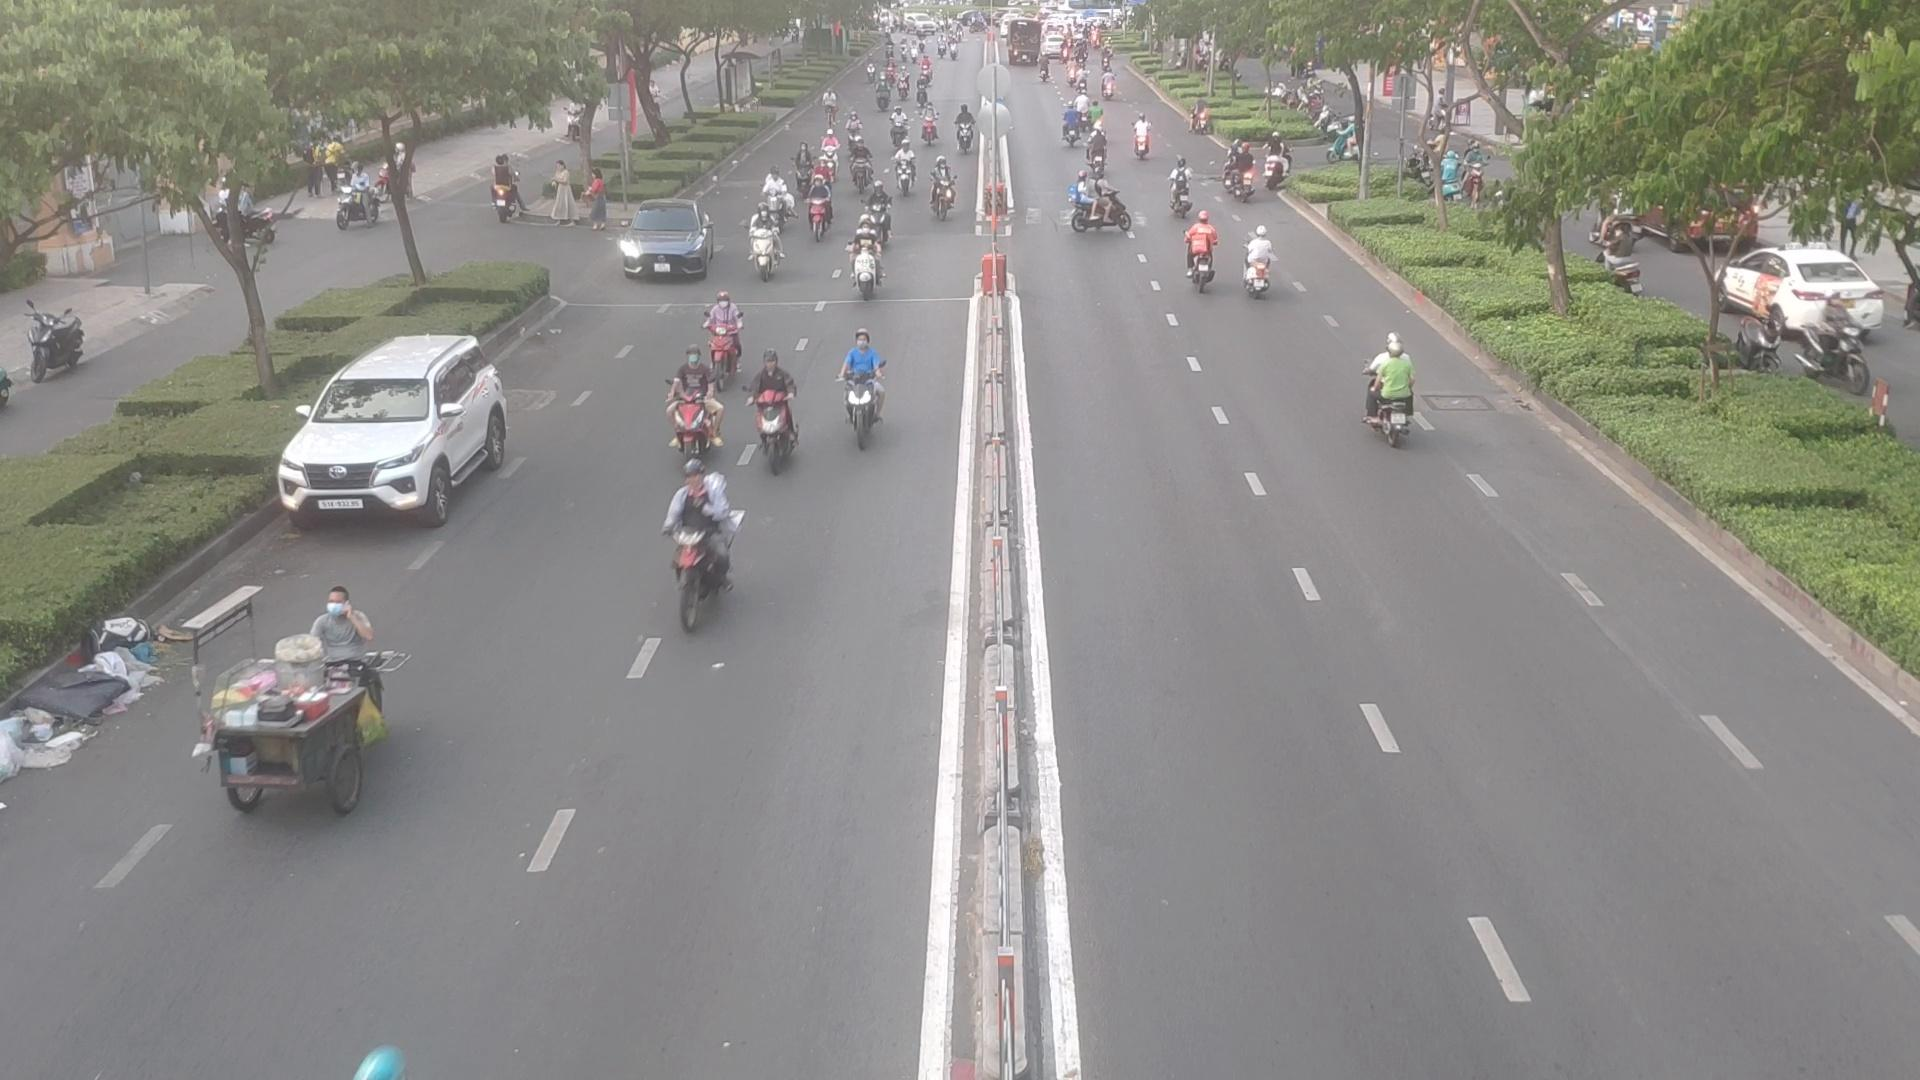car: (284, 328, 524, 520), (615, 231, 719, 281)
motorbike: (203, 641, 402, 816), (667, 469, 750, 625), (753, 349, 819, 467), (1356, 344, 1429, 448), (829, 336, 891, 444), (661, 349, 723, 456), (696, 293, 749, 375), (1064, 186, 1134, 239), (840, 233, 887, 302), (1178, 222, 1218, 290), (1241, 229, 1280, 297), (745, 223, 782, 280), (1232, 135, 1259, 199), (1167, 157, 1197, 214), (807, 187, 837, 241), (930, 171, 960, 220), (887, 152, 914, 195), (1058, 109, 1087, 149), (1133, 119, 1158, 160), (822, 131, 845, 166), (916, 113, 940, 146), (887, 108, 910, 141)
